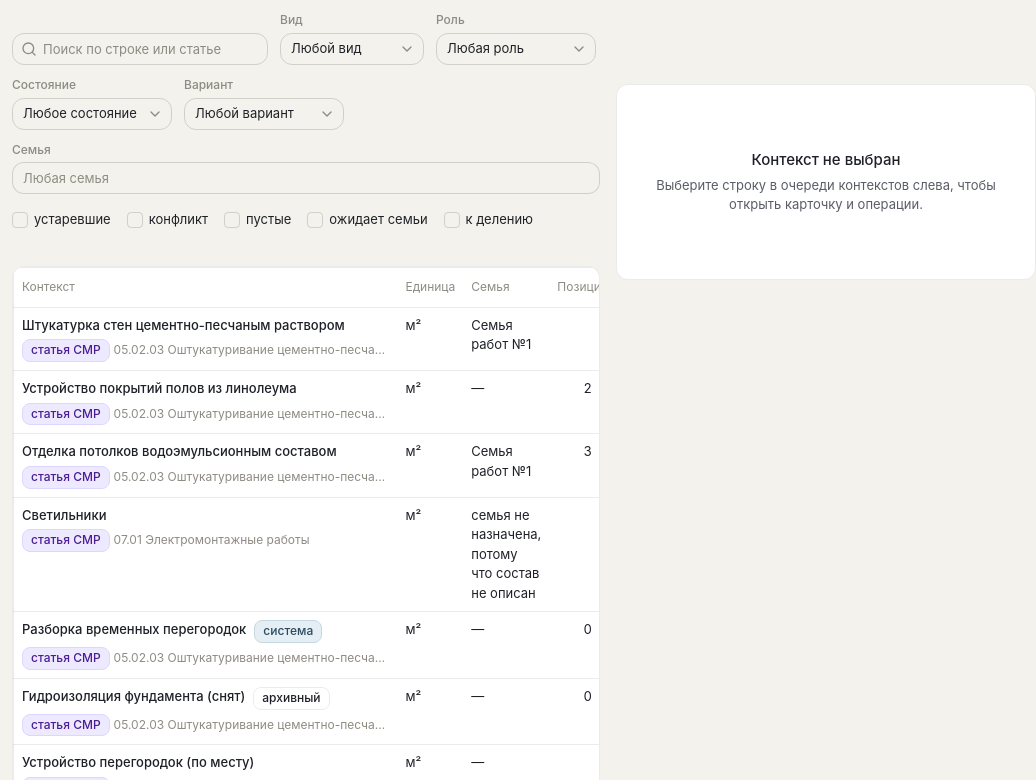
it: ContextsTab › три фильтра-признака — три независимых контрола, каждый сужает очередь по своей оси
Expected: the text "Штукатурка стен цементно-песчаным раствором" is shown, 22,316 -> 345,335
Step 1. Click the checkbox named "устаревшие" next to "устаревшие" → (20, 220), box 12,212 -> 28,228
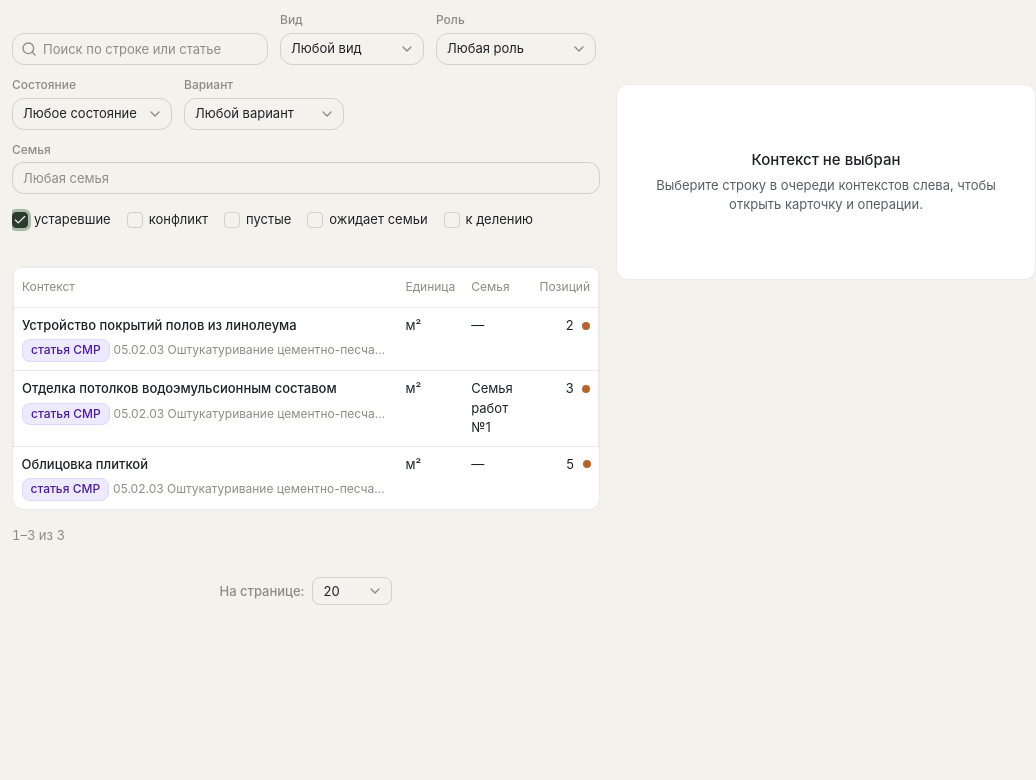
Expected: the text "Устройство покрытий полов из линолеума" is shown, 22,316 -> 297,335
Expected: the text "Штукатурка стен цементно-песчаным раствором" is gone
# Снять «устаревшие», включить «конфликтные» — другая проекция, другой контекст.
Step 2. Click the checkbox named "устаревшие" next to "устаревшие" → (20, 220), box 12,212 -> 28,228
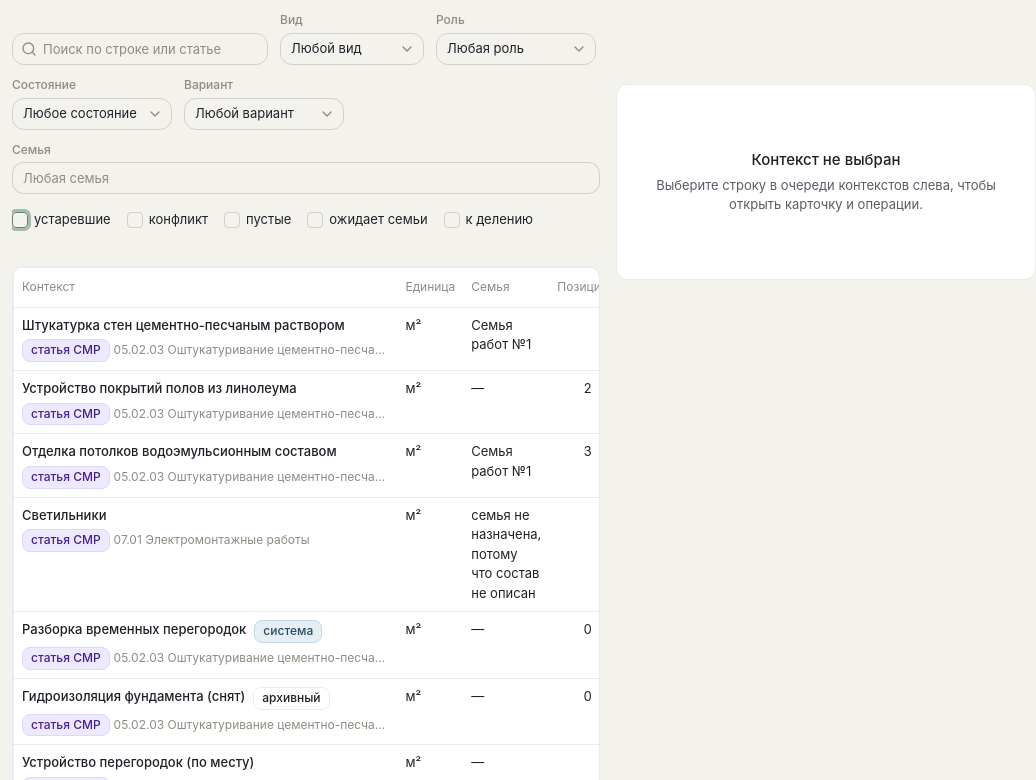
Step 3. Click the checkbox named "конфликт" next to "конфликт" → (135, 220), box 127,212 -> 143,228
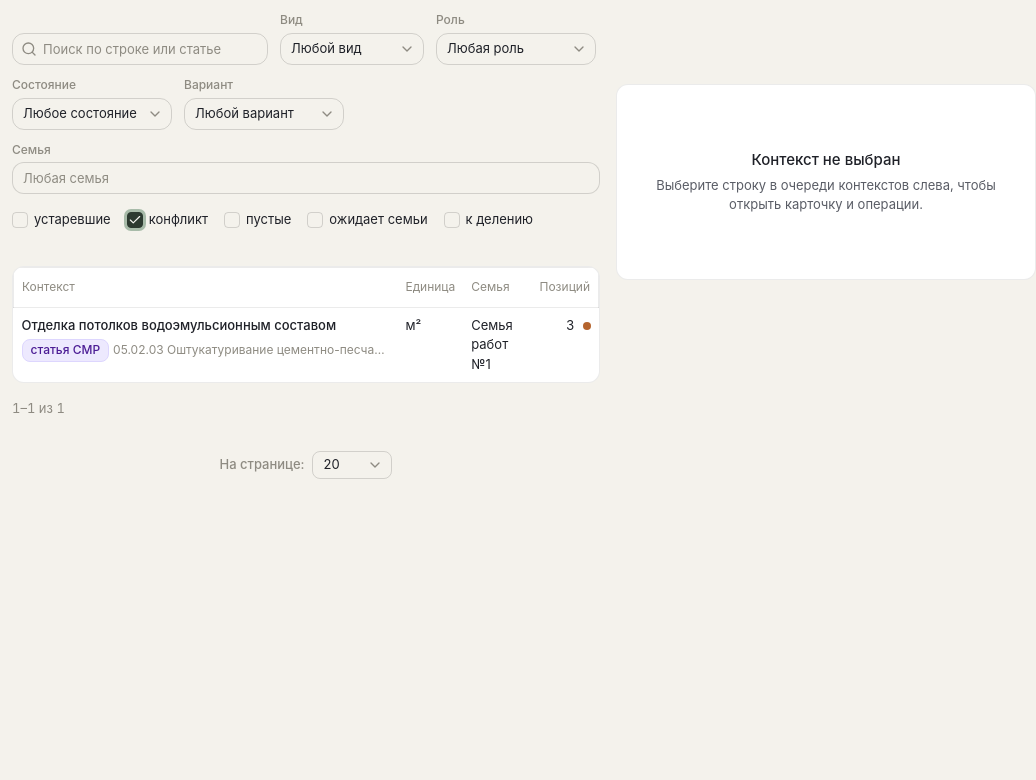
Expected: the text "Отделка потолков водоэмульсионным составом" is shown, 22,316 -> 336,335
Expected: the text "Устройство покрытий полов из линолеума" is gone
Step 4. Click the checkbox named "конфликт" next to "конфликт" → (135, 220), box 127,212 -> 143,228
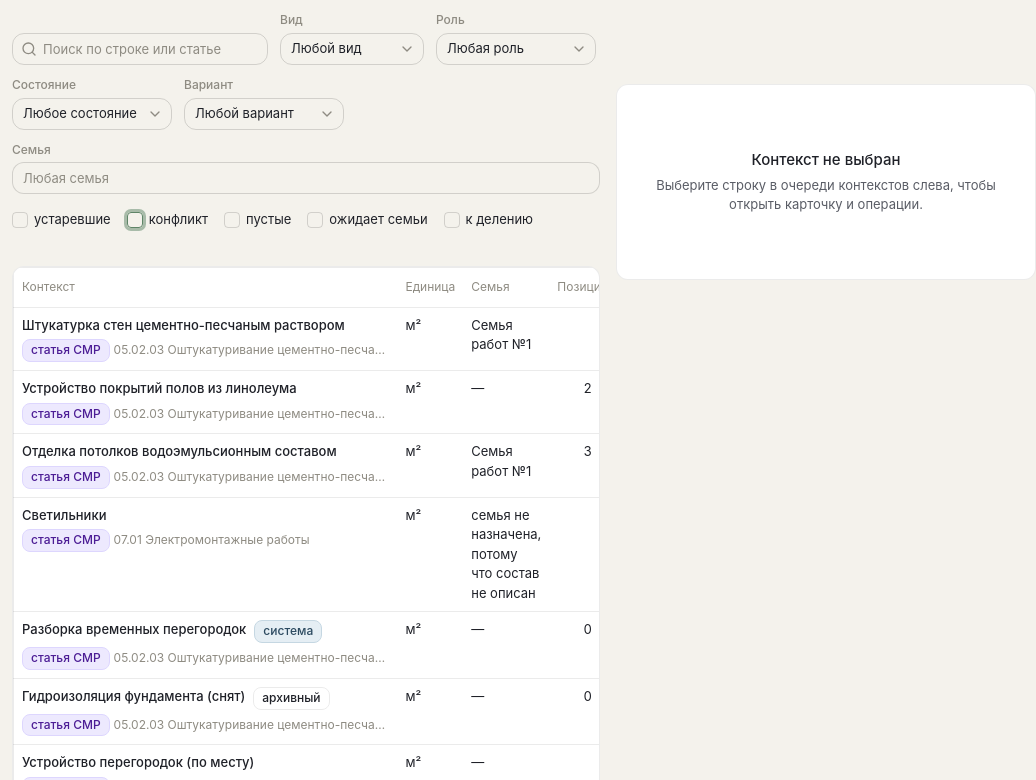
Step 5. Click the checkbox named "пустые" next to "пустые" → (232, 220), box 224,212 -> 240,228
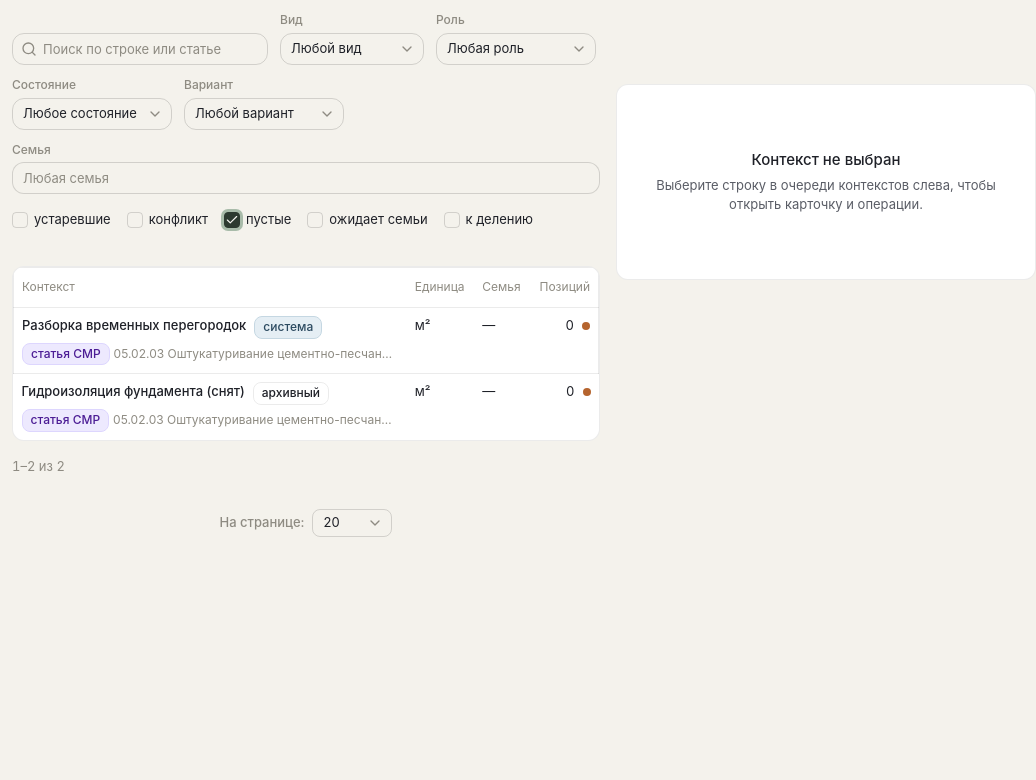
Expected: the text "Разборка временных перегородок" is shown, 22,316 -> 246,335
Expected: the text "Отделка потолков водоэмульсионным составом" is gone
